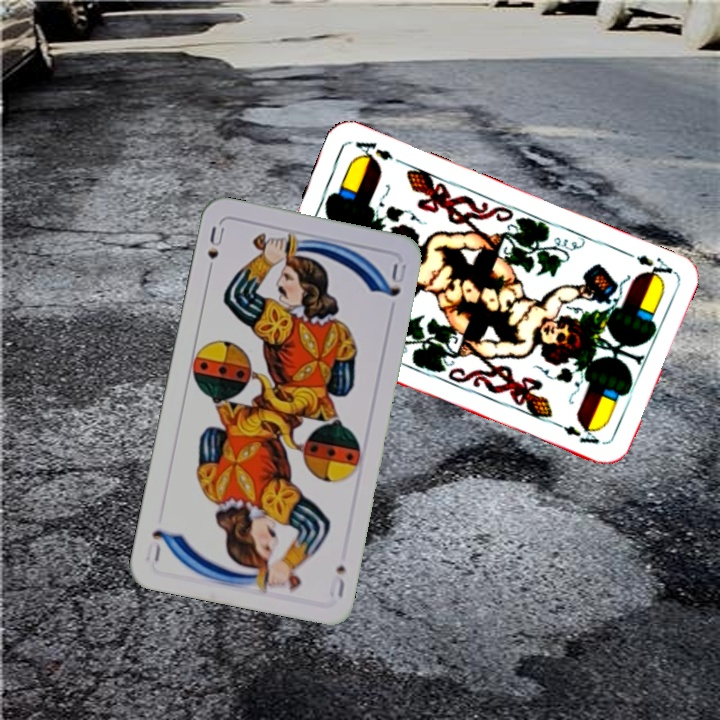EA: (619, 246, 676, 284)
SU: (202, 222, 227, 279), (325, 561, 348, 601)
